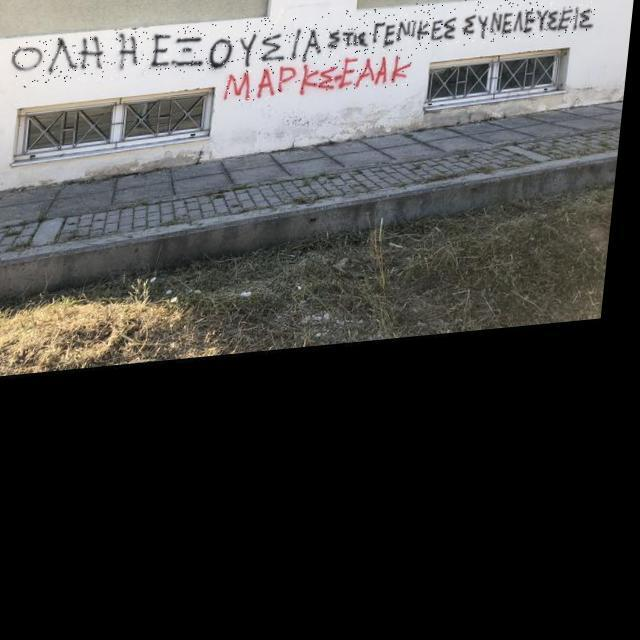-: (11, 0, 598, 90), (226, 61, 414, 108)
